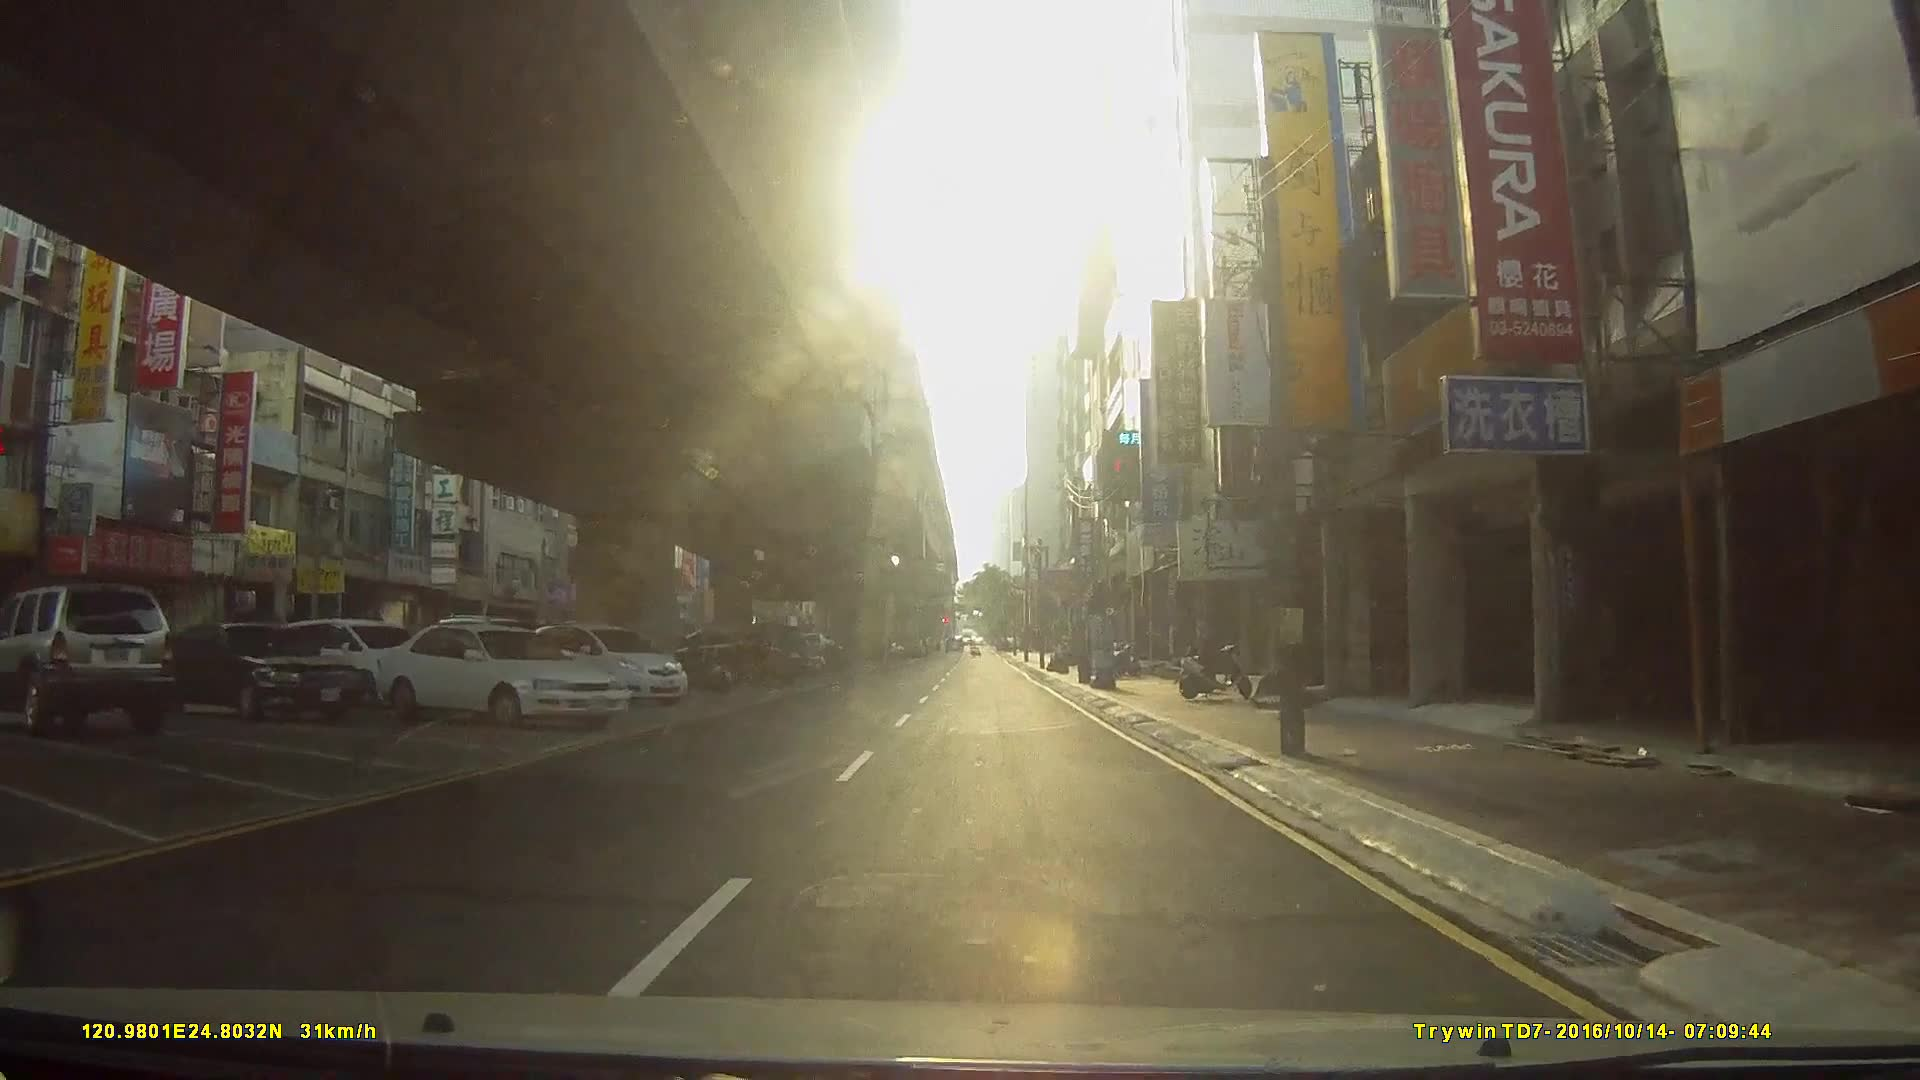vehicle: (371, 620, 628, 731), (0, 583, 175, 737), (145, 621, 371, 720), (521, 622, 686, 711)
